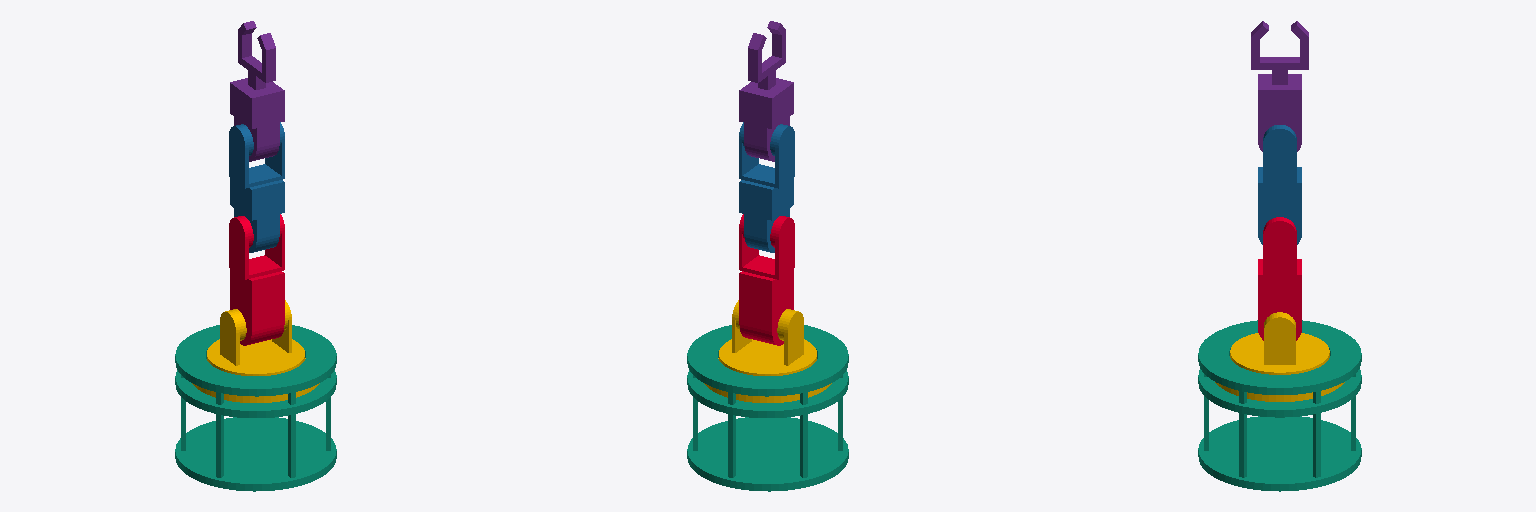
URDF robot description (project_arm_1):
<?xml version="1.0" encoding="utf-8"?>
<!-- This URDF was automatically created by SolidWorks to URDF Exporter! Originally created by [author] ([email redacted]) 
     Commit Version: 1.6.0-1-g15f4949  Build Version: 1.6.7594.29634
     For more information, please see http://wiki.ros.org/sw_urdf_exporter -->
<robot
  name="project_arm_1">

   <!-- Used for fixing robot to Gazebo 'base_link' -->
  <link name="world"/>

  <joint name="fixed" type="fixed">
    <parent link="world"/>
    <child link="base_robot"/>
  </joint>

  <link
    name="base_robot">
    <inertial>
      <origin
        xyz="0.087847 0.068109 0.042187"
        rpy="0 0 0" />
      <mass
        value="0.72938" />
      <inertia
        ixx="0.0046602"
        ixy="-1.6887E-19"
        ixz="3.379E-19"
        iyy="0.0044952"
        iyz="3.2874E-20"
        izz="0.0046602" />
    </inertial>
    <visual>
      <origin
        xyz="0 0 0"
        rpy="0 0 0" />
      <geometry>
        <mesh
          filename="package://project_arm_1/meshes/base_robot.STL" />
      </geometry>
      <material
        name="">
        <color
          rgba="0.08627 0.6274 0.5215 1" />
      </material>
    </visual>
    <collision>
      <origin
        xyz="0 0 0"
        rpy="0 0 0" />
      <geometry>
        <mesh
          filename="package://project_arm_1/meshes/base_robot.STL" />
      </geometry>
    </collision>
  </link>
  <link
    name="link_1">
    <inertial>
      <origin
        xyz="1.3878E-17 0 0.026561"
        rpy="0 0 0" />
      <mass
        value="0.72688" />
      <inertia
        ixx="0.0012487"
        ixy="7.2378E-22"
        ixz="2.3667E-20"
        iyy="0.0013043"
        iyz="-4.708E-20"
        izz="0.0018887" />
    </inertial>
    <visual>
      <origin
        xyz="0 0 0"
        rpy="0 0 0" />
      <geometry>
        <mesh
          filename="package://project_arm_1/meshes/link_1.STL" />
      </geometry>
      <material
        name="">
        <color
          rgba="0.99999 0.76471 1E-05 1" />
      </material>
    </visual>
    <collision>
      <origin
        xyz="0 0 0"
        rpy="0 0 0" />
      <geometry>
        <mesh
          filename="package://project_arm_1/meshes/link_1.STL" />
      </geometry>
    </collision>
  </link>
  <joint
    name="joint_link_1"
    type="continuous">
    <origin
      xyz="0.087847 -0.042187 0.1015"
      rpy="0 0 0" />
    <parent
      link="base_robot" />
    <child
      link="link_1" />
    <axis
      xyz="0 0 1" />
  </joint>
  <link
    name="link_2">
    <inertial>
      <origin
        xyz="-0.048042 0 -0.0015"
        rpy="0 0 0" />
      <mass
        value="0.28718" />
      <inertia
        ixx="0.00013287"
        ixy="-6.435E-20"
        ixz="-2.567E-21"
        iyy="0.00064561"
        iyz="1.7428E-21"
        izz="0.00063883" />
    </inertial>
    <visual>
      <origin
        xyz="0 0 0"
        rpy="0 0 0" />
      <geometry>
        <mesh
          filename="package://project_arm_1/meshes/link_2.STL" />
      </geometry>
      <material
        name="">
        <color
          rgba="0.95294 1E-05 0.22353 1" />
      </material>
    </visual>
    <collision>
      <origin
        xyz="0 0 0"
        rpy="0 0 0" />
      <geometry>
        <mesh
          filename="package://project_arm_1/meshes/link_2.STL" />
      </geometry>
    </collision>
  </link>
  <joint
    name="joint_link_2"
    type="continuous">
    <origin
      xyz="0 0 0.086"
      rpy="3.1416 1.5708 0" />
    <parent
      link="link_1" />
    <child
      link="link_2" />
    <axis
      xyz="0 0 1" />
  </joint>
  <link
    name="link_3">
    <inertial>
      <origin
        xyz="-0.053463 -1.3878E-17 -0.0015"
        rpy="0 0 0" />
      <mass
        value="0.25625" />
      <inertia
        ixx="0.00011215"
        ixy="-4.1158E-20"
        ixz="-9.4092E-21"
        iyy="0.00055529"
        iyz="8.3589E-21"
        izz="0.0005528" />
    </inertial>
    <visual>
      <origin
        xyz="0 0 0"
        rpy="0 0 0" />
      <geometry>
        <mesh
          filename="package://project_arm_1/meshes/link_3.STL" />
      </geometry>
      <material
        name="">
        <color
          rgba="0.14118 0.44314 0.63922 1" />
      </material>
    </visual>
    <collision>
      <origin
        xyz="0 0 0"
        rpy="0 0 0" />
      <geometry>
        <mesh
          filename="package://project_arm_1/meshes/link_3.STL" />
      </geometry>
    </collision>
  </link>
  <joint
    name="joint_link_3"
    type="continuous">
    <origin
      xyz="-0.125 0 0"
      rpy="0 0 0" />
    <parent
      link="link_2" />
    <child
      link="link_3" />
    <axis
      xyz="0 0 1" />
  </joint>
  <link
    name="link_4">
    <inertial>
      <origin
        xyz="-0.041905 -2.0817E-17 -0.0015"
        rpy="0 0 0" />
      <mass
        value="0.21479" />
      <inertia
        ixx="9.1304E-05"
        ixy="7.8644E-23"
        ixz="-2.5535E-20"
        iyy="0.00032596"
        iyz="-9.3564E-21"
        izz="0.00036238" />
    </inertial>
    <visual>
      <origin
        xyz="0 0 0"
        rpy="0 0 0" />
      <geometry>
        <mesh
          filename="package://project_arm_1/meshes/link_4.STL" />
      </geometry>
      <material
        name="">
        <color
          rgba="0.4902 0.23529 0.59608 1" />
      </material>
    </visual>
    <collision>
      <origin
        xyz="0 0 0"
        rpy="0 0 0" />
      <geometry>
        <mesh
          filename="package://project_arm_1/meshes/link_4.STL" />
      </geometry>
    </collision>
  </link>
  <joint
    name="joint_link_4"
    type="continuous">
    <origin
      xyz="-0.125 0 0"
      rpy="0 0 0" />
    <parent
      link="link_3" />
    <child
      link="link_4" />
    <axis
      xyz="0 0 1" />
  </joint>


  <gazebo>
    <plugin name="gazebo_ros_control" filename="libgazebo_ros_control.so">
      <robotNamespace>/arm_robot_1</robotNamespace>
      <robotSimType>gazebo_ros_control/DefaultRobotHWSim</robotSimType>
    </plugin>
  </gazebo>

  <transmission name="trans1">
    <type>transmission_interface/SimpleTransmission</type>
    <joint name="joint_link_1">
      <hardwareInterface>hardware_interface/EffortJointInterface</hardwareInterface>
    </joint>
    <actuator name="motor1">
      <hardwareInterface>hardware_interface/EffortJointInterface</hardwareInterface>
      <mechanicalReduction>1</mechanicalReduction>
    </actuator>
  </transmission>


  <transmission name="trans2">
    <type>transmission_interface/SimpleTransmission</type>
    <joint name="joint_link_2">
      <hardwareInterface>hardware_interface/EffortJointInterface</hardwareInterface>
    </joint>
    <actuator name="motor2">
      <hardwareInterface>hardware_interface/EffortJointInterface</hardwareInterface>
      <mechanicalReduction>1</mechanicalReduction>
    </actuator>
  </transmission>

  <transmission name="trans3">
    <type>transmission_interface/SimpleTransmission</type>
    <joint name="joint_link_3">
      <hardwareInterface>hardware_interface/EffortJointInterface</hardwareInterface>
    </joint>
    <actuator name="motor3">
      <hardwareInterface>hardware_interface/EffortJointInterface</hardwareInterface>
      <mechanicalReduction>1</mechanicalReduction>
    </actuator>
  </transmission>

  <transmission name="trans4">
    <type>transmission_interface/SimpleTransmission</type>
    <joint name="joint_link_4">
      <hardwareInterface>hardware_interface/EffortJointInterface</hardwareInterface>
    </joint>
    <actuator name="motor4">
      <hardwareInterface>hardware_interface/EffortJointInterface</hardwareInterface>
      <mechanicalReduction>1</mechanicalReduction>
    </actuator>
  </transmission>


</robot>

--- Facts derived from the render (not from the file) ---
The picture shows the robot from 3 angles, left to right: view 1: azimuth 30°, elevation 25°; view 2: azimuth 150°, elevation 25°; view 3: azimuth 270°, elevation 25°; orthographic projection.
Model project_arm_1 with 6 links and 5 joints (4 continuous, 1 fixed), rooted at world, posed every joint at zero.
Visible links, largest first — view 1: base_robot, link_2, link_3, link_4, link_1; view 2: base_robot, link_2, link_3, link_4, link_1; view 3: base_robot, link_1, link_4, link_2, link_3.
Boxes of the visible links, box(x1,y1,x2,y2) form: base_robot: box(175, 325, 336, 491); link_2: box(229, 214, 284, 345); link_3: box(229, 122, 284, 252); link_4: box(230, 21, 284, 161); link_1: box(192, 300, 319, 402); base_robot: box(687, 325, 848, 491); link_2: box(739, 214, 794, 345); link_3: box(739, 122, 794, 252); link_4: box(739, 21, 793, 161); link_1: box(704, 300, 831, 402); base_robot: box(1198, 320, 1361, 491); link_1: box(1215, 312, 1344, 401); link_4: box(1251, 21, 1308, 151); link_2: box(1258, 217, 1301, 340); link_3: box(1258, 125, 1301, 244).
Size in the robot's own frame: 0.2 by 0.1999 by 0.5875 metres.
5 mesh visuals loaded from 5 distinct referenced files (5 binary STL).